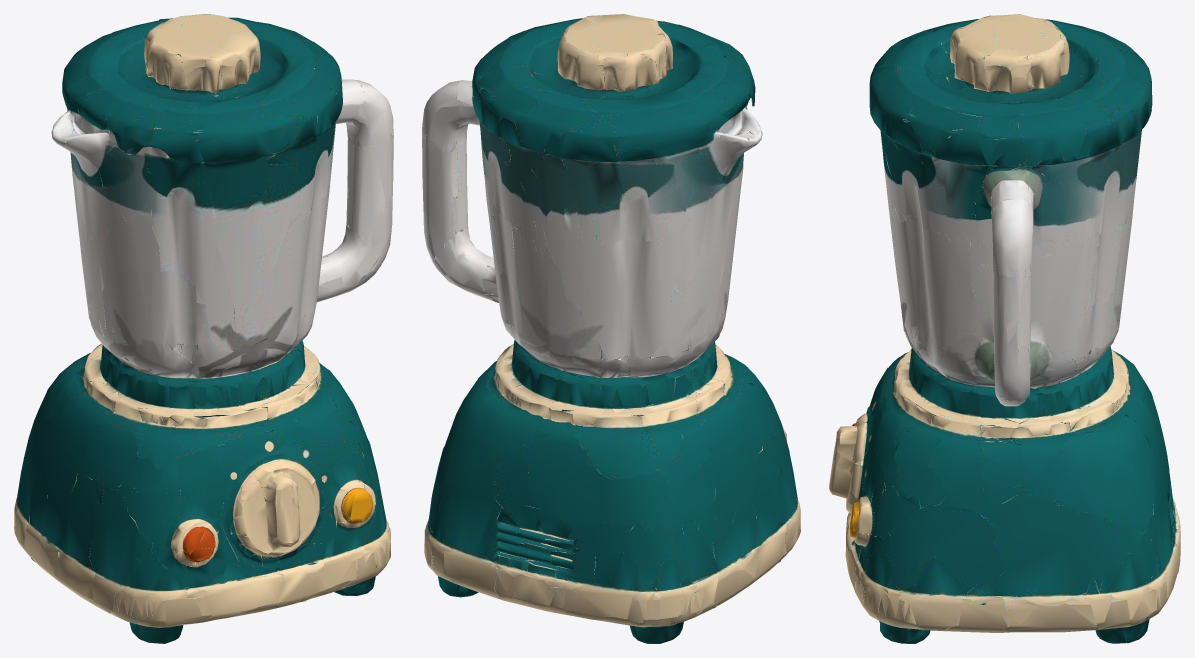
Rendered from connector_object.glb.
3 renders of one model, left to right at view 1: azimuth 30°, elevation 25°; view 2: azimuth 150°, elevation 25°; view 3: azimuth 270°, elevation 25°, orthographic. The views are drawn at different scales.
Visible parts, largest first — view 1: Mesh_0; view 2: Mesh_0; view 3: Mesh_0.
Boxes of the visible parts, bbox=[...] form: Mesh_0: bbox=[14, 14, 393, 643]; Mesh_0: bbox=[422, 14, 800, 643]; Mesh_0: bbox=[829, 14, 1180, 643].
Bounding box in the file's own units: 1 × 1.54 × 0.8883.
1 material, 1 textured.
